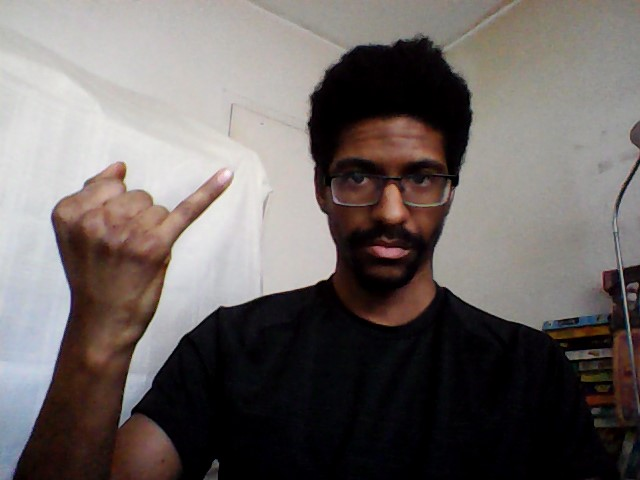j: (48, 156, 239, 357)
